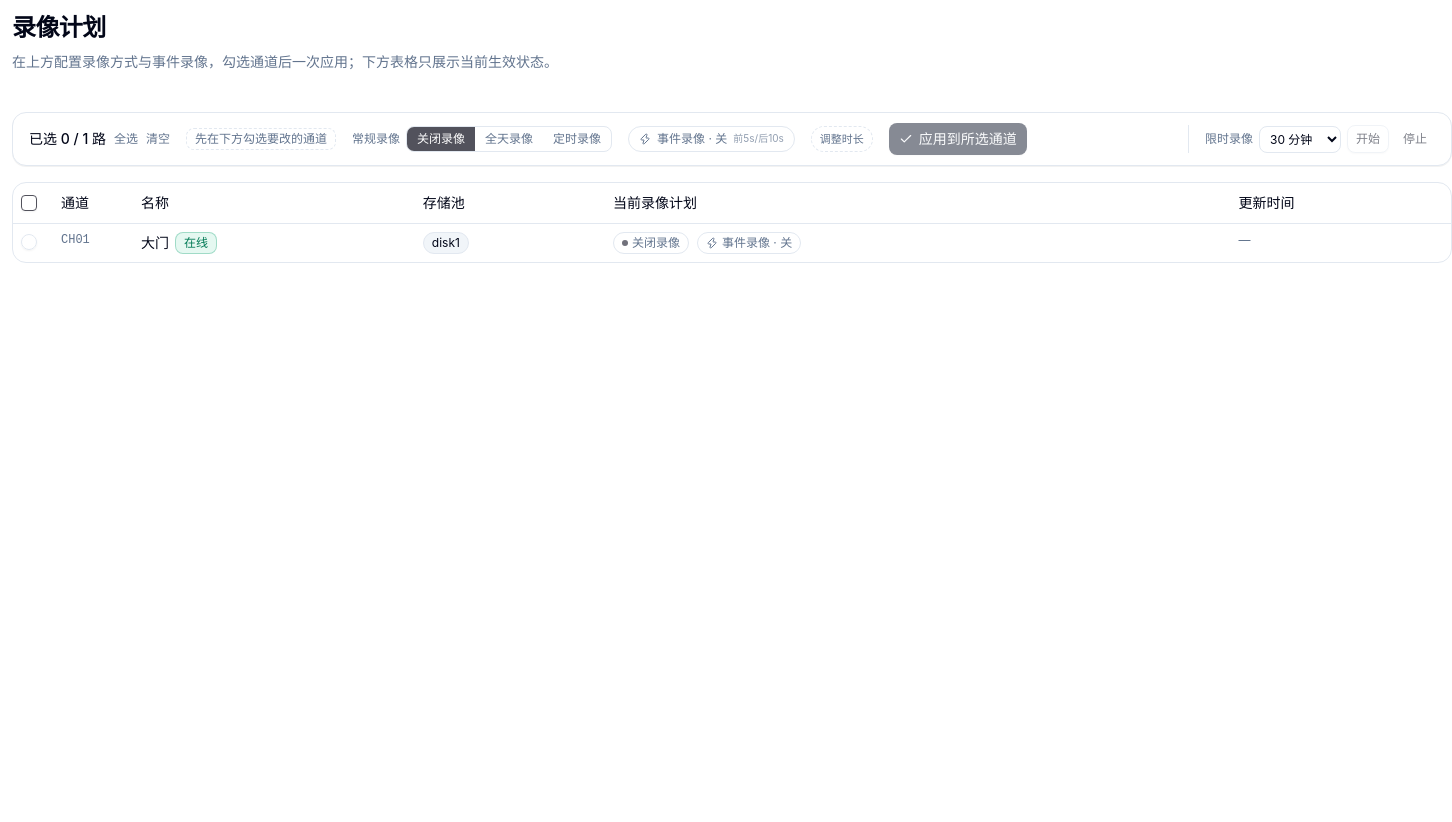
picking planned expands the schedule editor in the bar
The image size is (1452, 822).
Click the button "定时录像": {"x": 577, "y": 139} [543, 127, 611, 151]
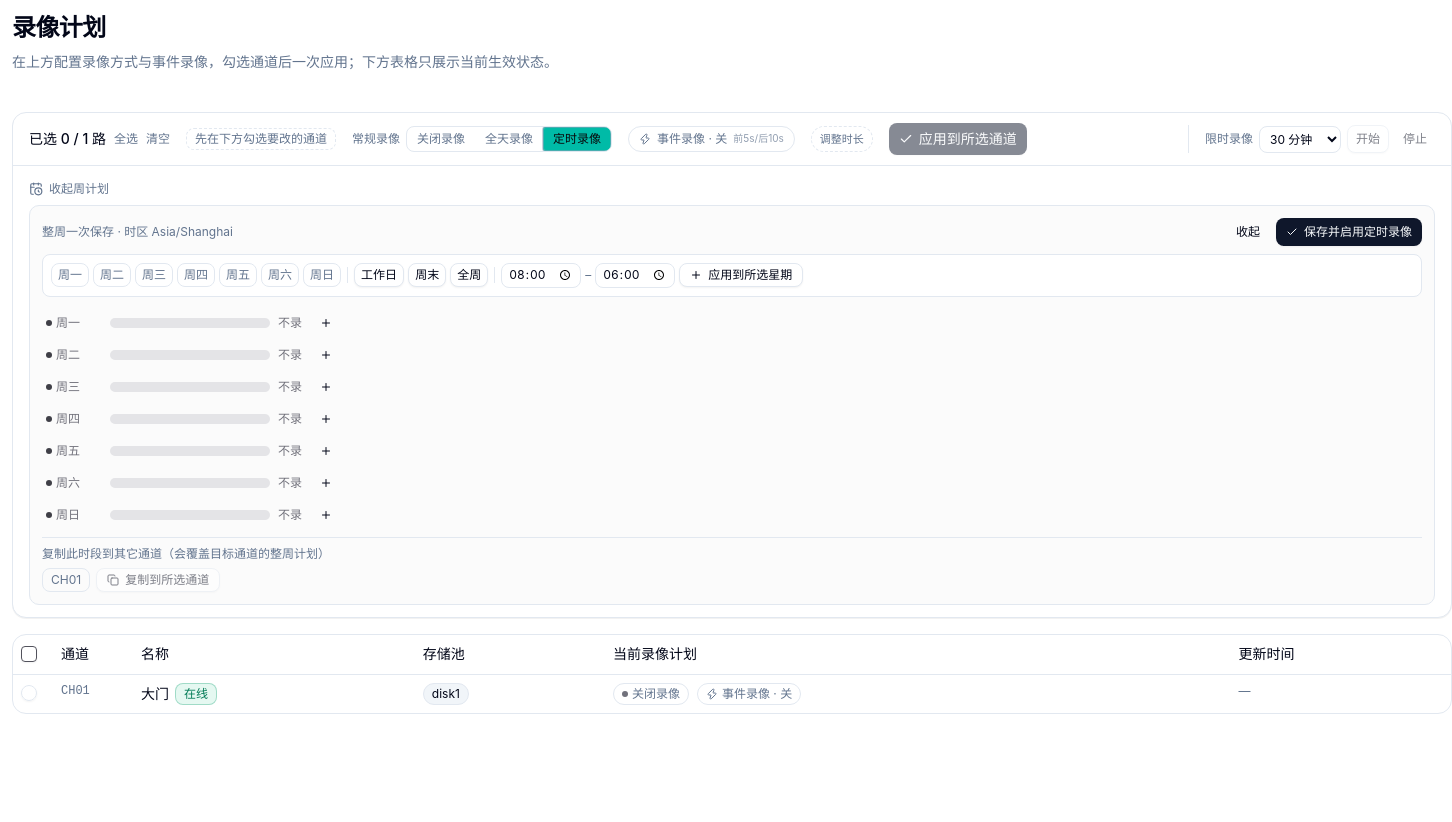
Result: the text "整周一次保存 · 时区 Asia/Shanghai" is shown at [42, 224, 233, 240]
